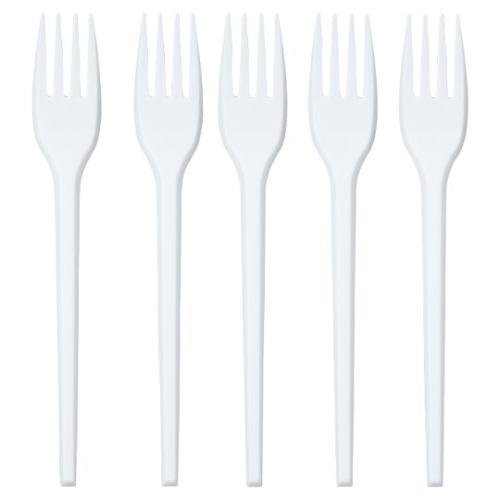Fork: (398, 12, 469, 488), (31, 12, 101, 488), (308, 12, 378, 487), (218, 12, 287, 487), (134, 12, 202, 487)
